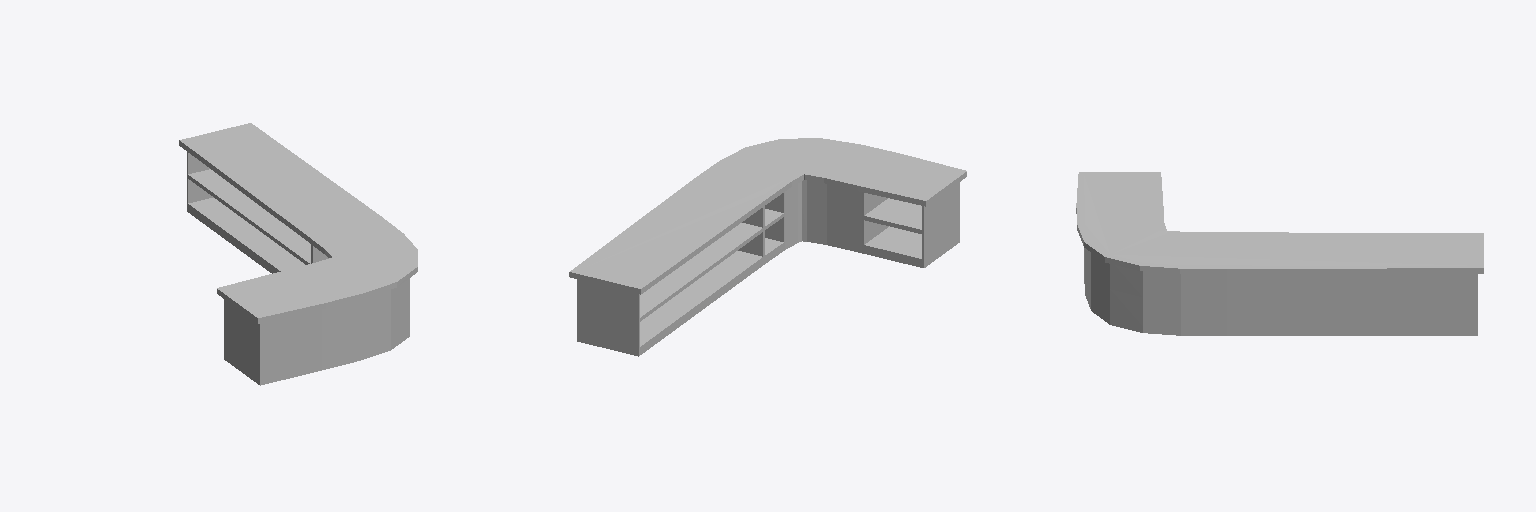
Rendered from barstand.obj.
3 views of the same model, side by side, from view 1: azimuth 30°, elevation 25°; view 2: azimuth 150°, elevation 25°; view 3: azimuth 270°, elevation 25° (orthographic).
Parts seen in each view (by area): view 1: Cube; view 2: Cube; view 3: Cube.
Boxes of the visible parts, box(x1,y1,x2,y2) form: Cube: box(179, 123, 417, 385); Cube: box(569, 138, 966, 356); Cube: box(1076, 172, 1483, 335).
Bounding box in the file's own units: 2.69 × 0.9221 × 4.81.